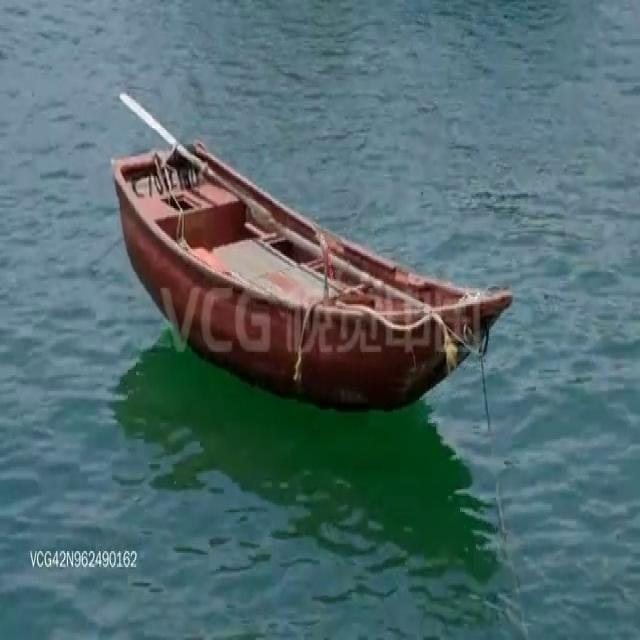fishing boat: (103, 87, 514, 418)
